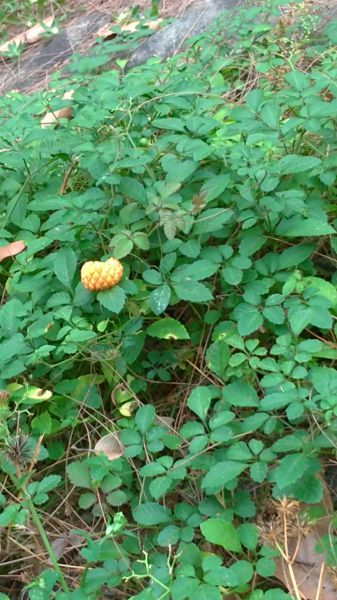eggs: (76, 247, 126, 291)
